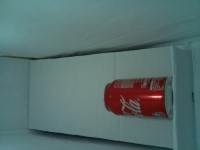kaleng: (103, 77, 173, 119)
